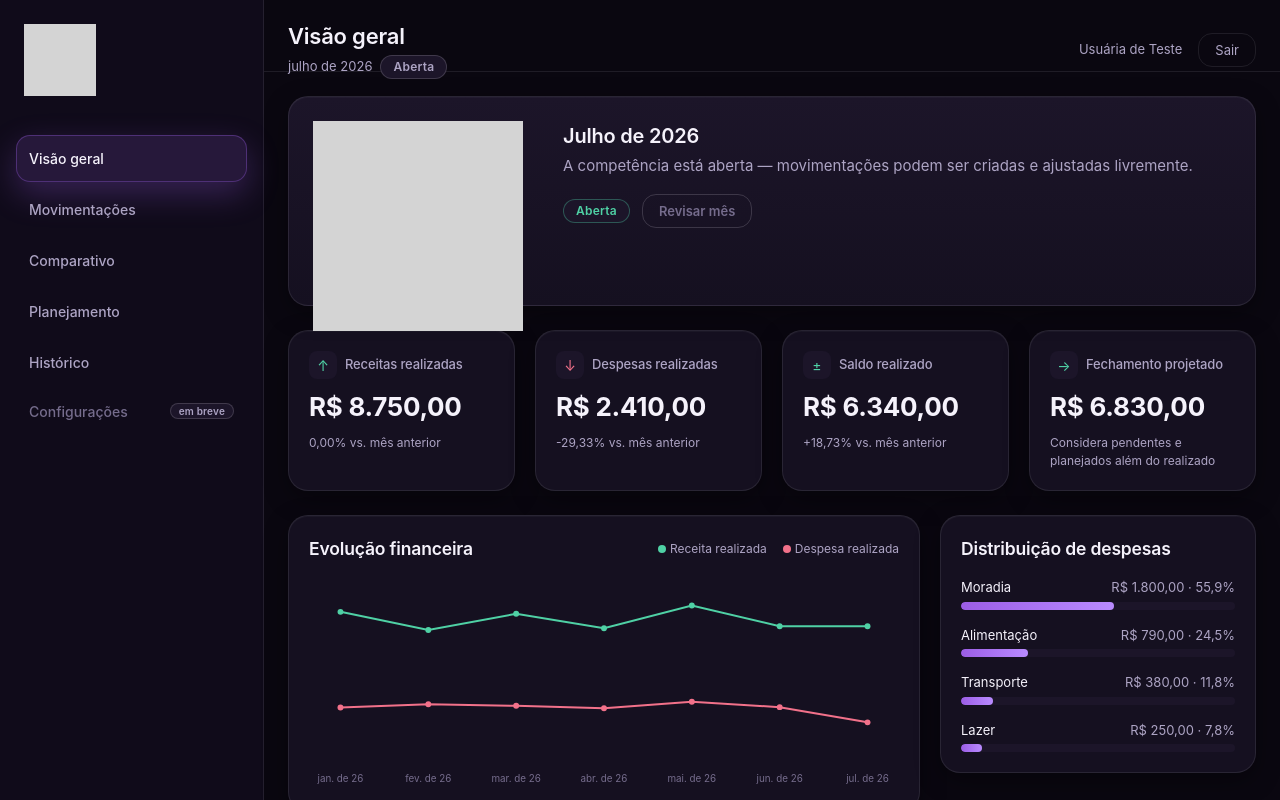
Test: App › navega para /comparativo ao clicar em "Comparativo", atualizando aria-current e o título do cabeçalho
This screenshot has width=1280, height=800.
Click the link "Comparativo".
click(72, 260)  # box top-left (29, 252), bottom-right (115, 268)
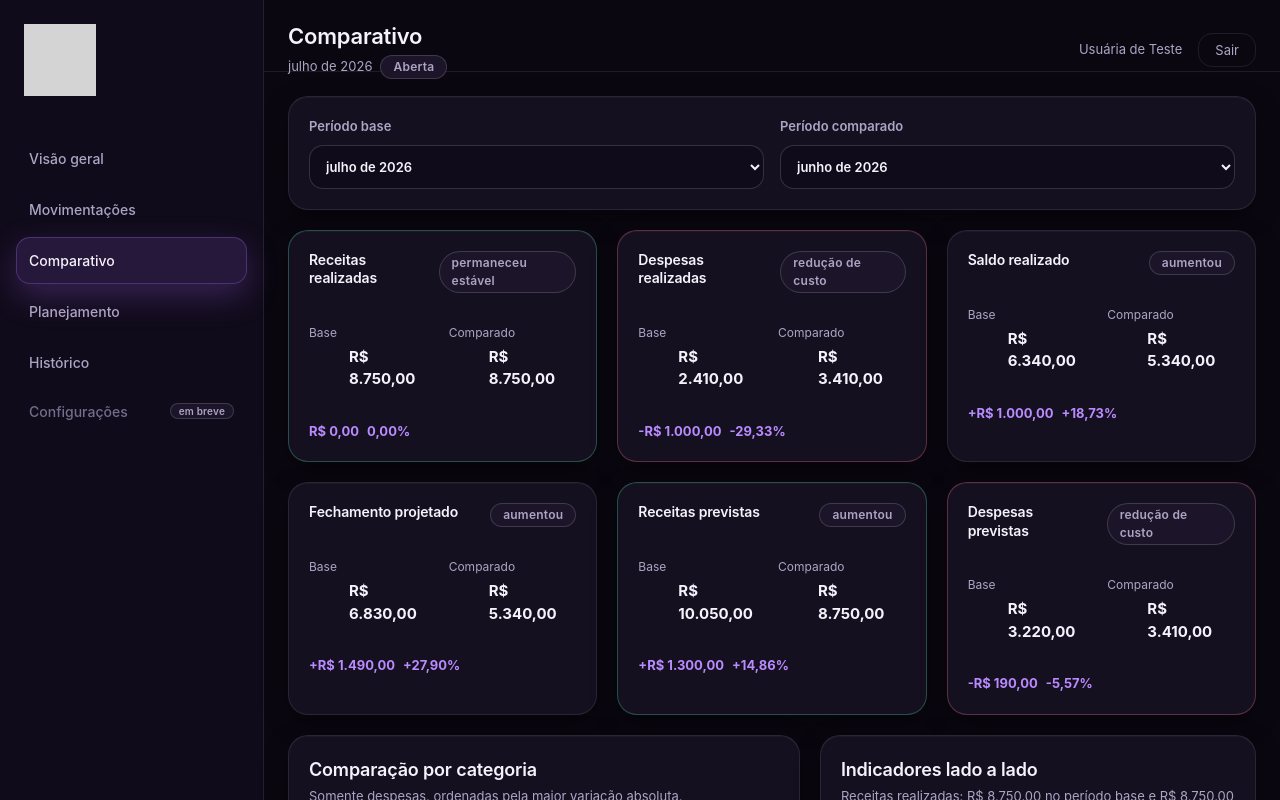
expect the heading "Comparativo" is shown: met, box top-left (288, 23), bottom-right (422, 49)
expect the heading "Comparação por categoria" is shown: met, box top-left (309, 758), bottom-right (537, 780)
